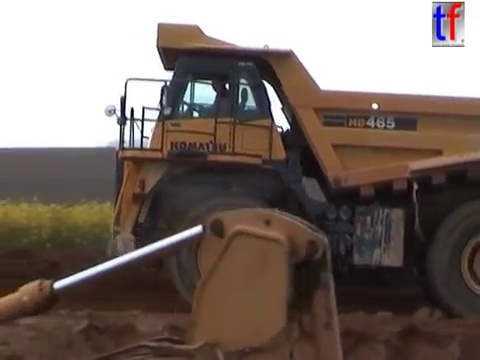excavator: (1, 203, 348, 360)
truck: (102, 19, 480, 326)
